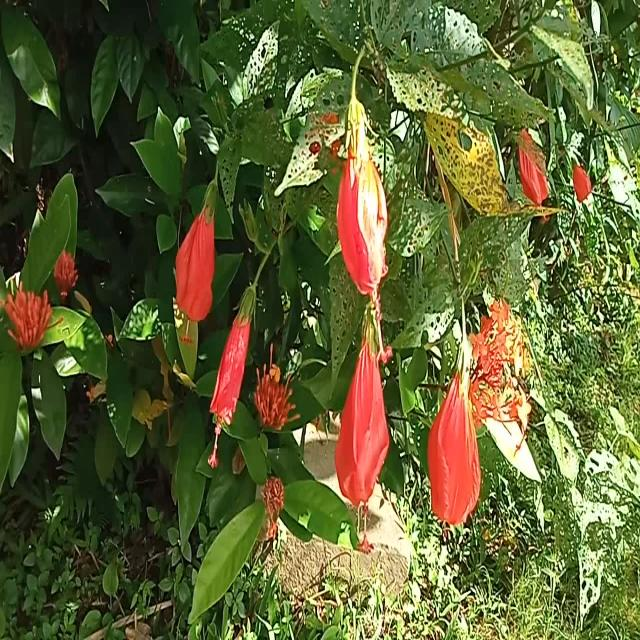Flower: (336, 99, 396, 365), (329, 308, 393, 552), (429, 333, 483, 530), (212, 282, 256, 475), (176, 175, 218, 350)
